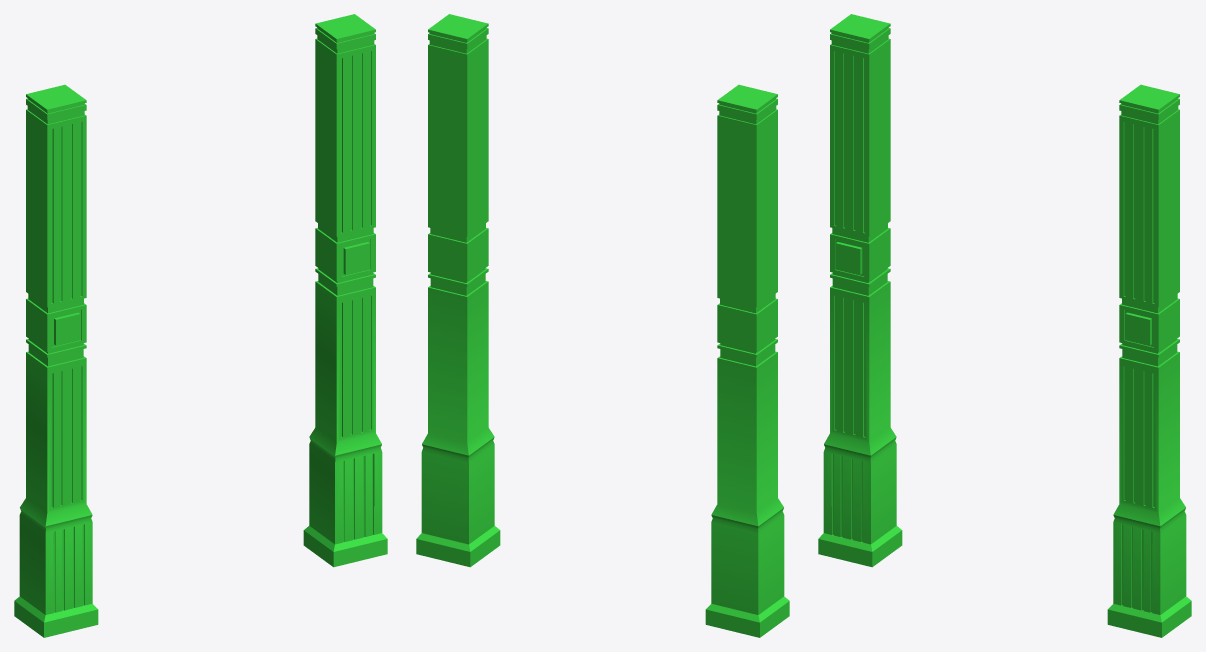
Rendered from SM_MidbossPillar.fbx.
3 renders of one model, left to right at view 1: azimuth 30°, elevation 25°; view 2: azimuth 150°, elevation 25°; view 3: azimuth 330°, elevation 25°, orthographic.
Visible parts, largest first — view 1: MidbossPillar_low; view 2: MidbossPillar_low; view 3: MidbossPillar_low.
Boxes of the visible parts, box(x1,y1,x2,y2) form: MidbossPillar_low: box(14, 14, 387, 637); MidbossPillar_low: box(416, 14, 789, 637); MidbossPillar_low: box(818, 14, 1191, 637).
Size of the model in its own units: 1400 by 2037 by 211.
